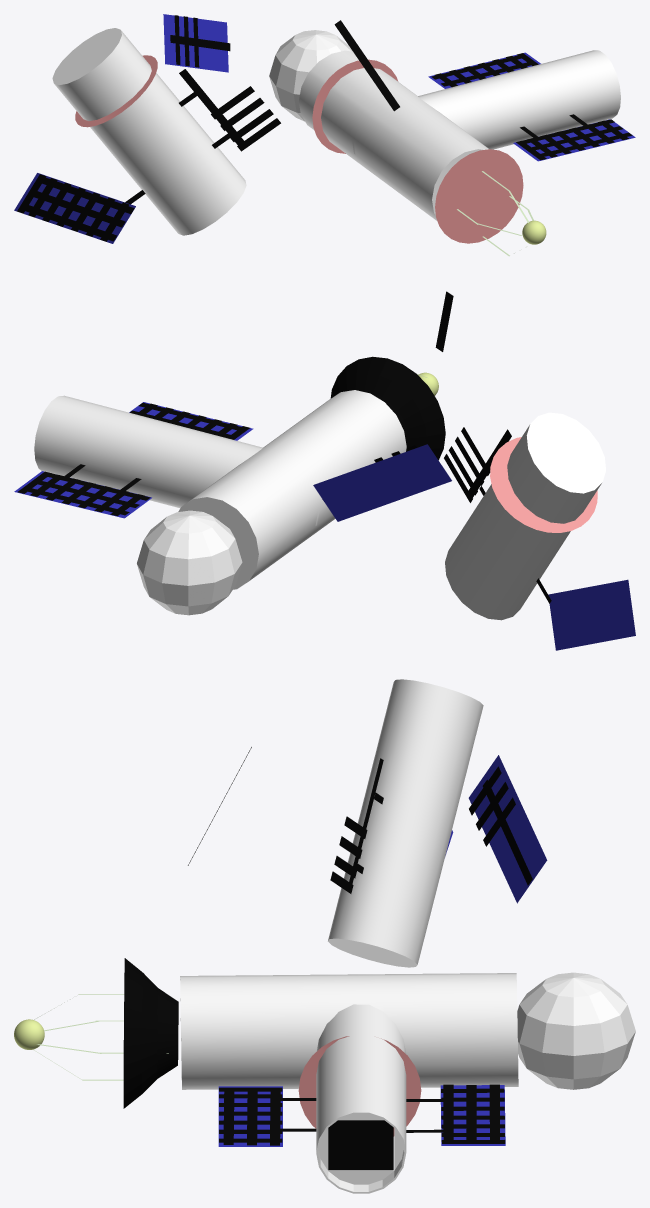
File: satelite.glb
The picture shows the model from 3 angles, top to bottom: view 1: azimuth 30°, elevation 25°; view 2: azimuth 150°, elevation 25°; view 3: azimuth 270°, elevation 25°; orthographic projection. The views are drawn at different scales.
Visible parts, largest first — view 1: Cylinder002, Cylinder001, Cylinder004, Circle002 (×3), wing right (×4), Sphere001, long strip003 (×4), long strip2 (×4), Long strip (×3), Sphere002; view 2: Cylinder001, Cylinder002, Cylinder004, wing right (×4), Sphere001, Cone001, Circle002, long strip003 (×2), Long strip, long strip2; view 3: Cylinder001, Cylinder002, Cylinder004, Sphere001, wing right (×3), Cone001, Object002, Circle002, Sphere002.
Boxes of the visible parts, x1,y1,x2,y2 form: Cylinder002: (52,28,246,235); Cylinder001: (298,50,488,220); Cylinder004: (418,50,620,149); Circle002 (×3): (75,55,523,243); wing right (×4): (14,14,635,243); Sphere001: (269,30,352,121); long strip003 (×4): (21,20,632,241); long strip2 (×4): (29,35,622,227); Long strip (×3): (38,69,614,213); Sphere002: (522,220,546,244); Cylinder001: (178,390,406,589); Cylinder002: (445,412,605,620); Cylinder004: (34,395,262,507); wing right (×4): (14,402,635,650); Sphere001: (137,510,242,615); Cone001: (330,356,445,460); Circle002: (490,437,597,532); long strip003 (×2): (22,402,245,515); Long strip: (43,472,150,500); long strip2: (32,479,139,507); Cylinder001: (180,973,518,1089); Cylinder002: (328,679,483,967); Cylinder004: (316,1004,406,1193); Sphere001: (517,972,635,1089); wing right (×3): (218,755,547,1146); Cone001: (123,958,178,1108); Object002: (328,1120,393,1170); Circle002: (298,1036,421,1136); Sphere002: (14,1019,44,1049).
Bounding box in the file's own units: 74.32 × 29.78 × 56.83.
